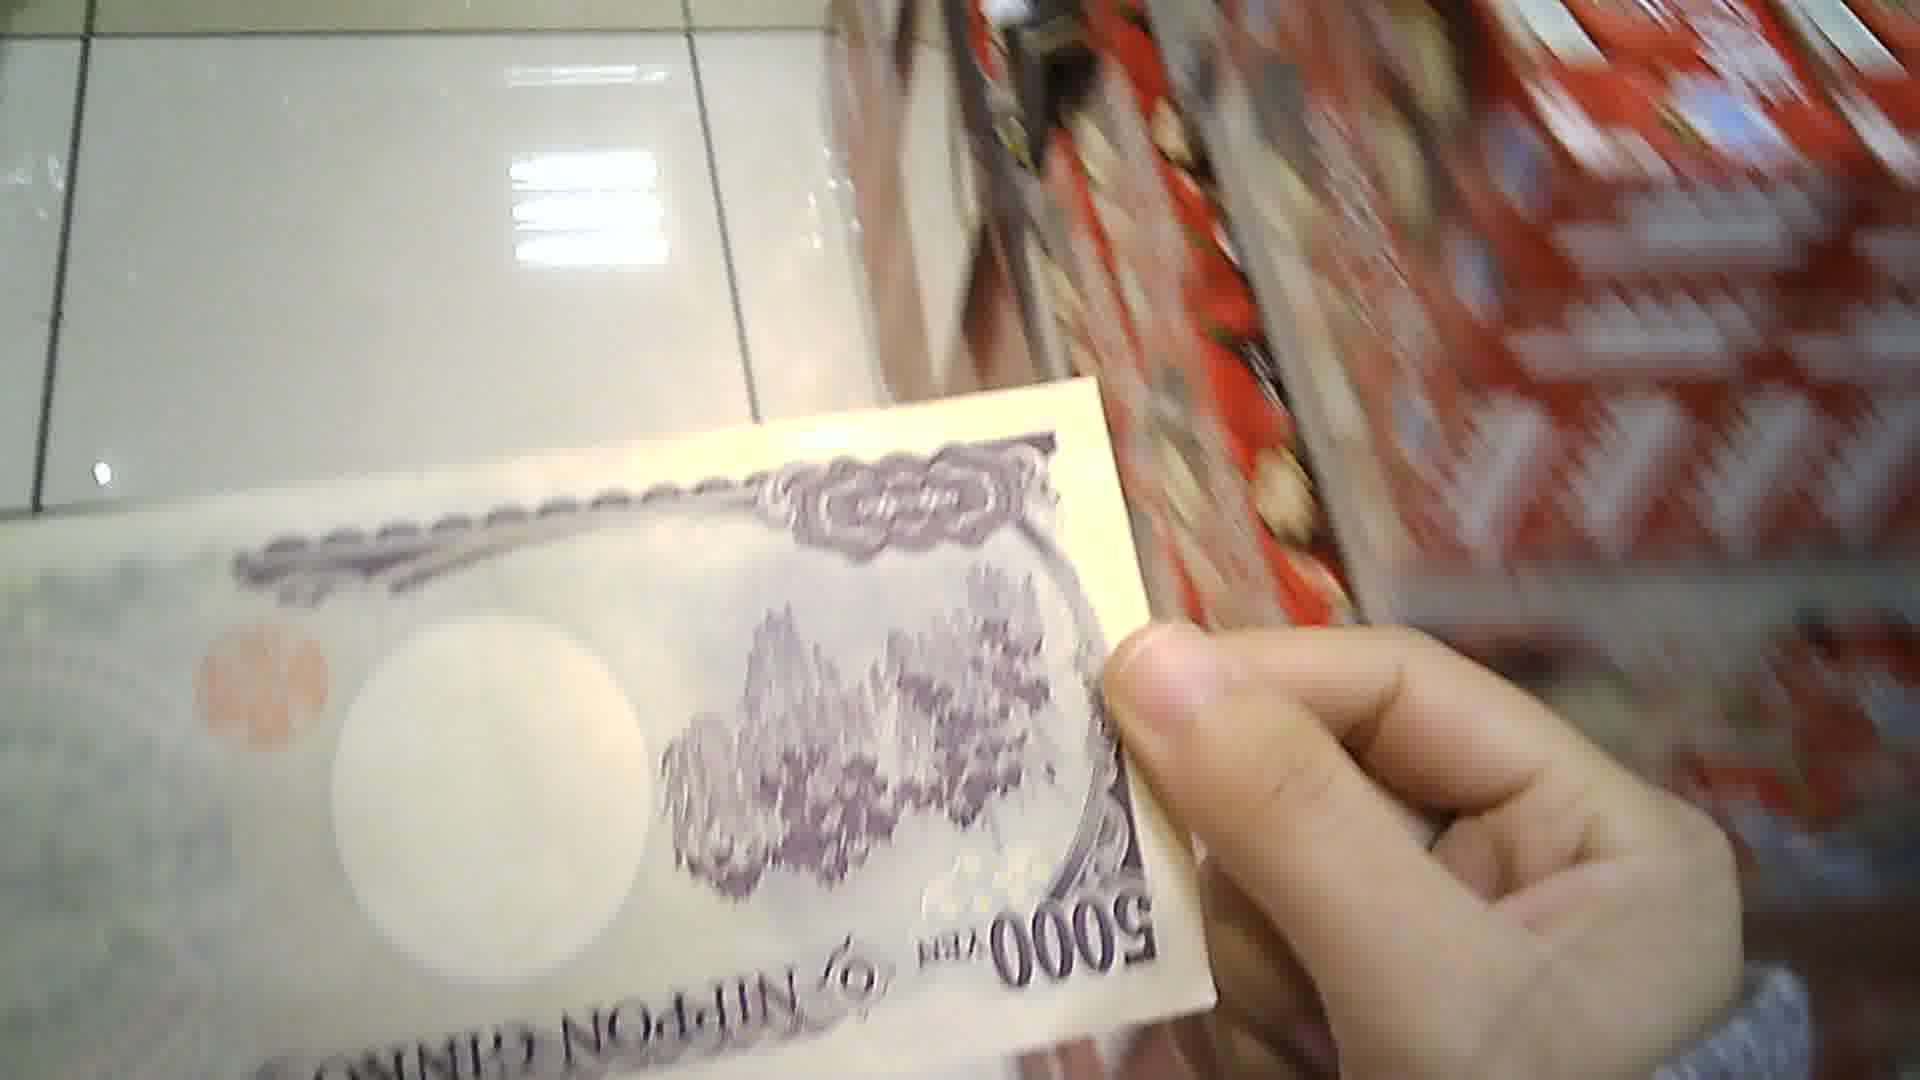5,000 Yen: (11, 397, 1160, 1079)
